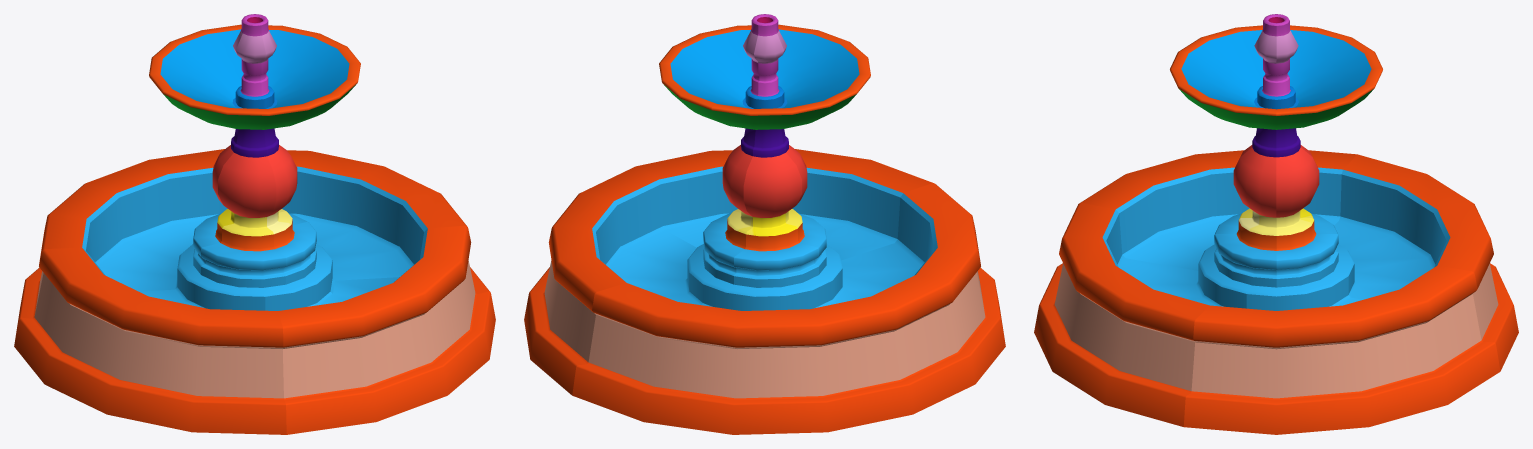
The model's file is Fountain.FBX.
The picture shows the model from 3 angles, left to right: view 1: azimuth 30°, elevation 25°; view 2: azimuth 150°, elevation 25°; view 3: azimuth 270°, elevation 25°; orthographic projection.
Visible parts, largest first — view 1: Fountain; view 2: Fountain; view 3: Fountain.
Boxes of the visible parts, x1,y1,x2,y2 form: Fountain: (14, 14, 495, 434); Fountain: (524, 14, 1005, 434); Fountain: (1034, 14, 1518, 434).
Size of the model in its own units: 1.94 by 1.39 by 1.94.
Materials: 1 (1 with a texture image).
